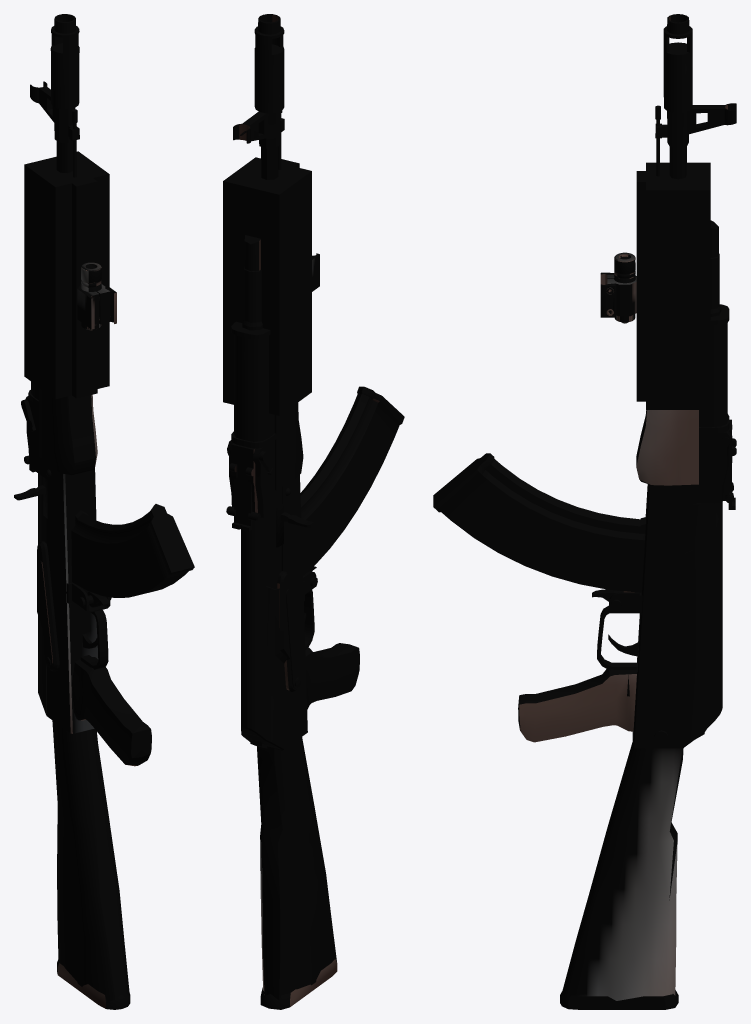
File: AK74__Handguard_AK_Quad__Light_Pistol.fbx
The picture shows the model from 3 angles, left to right: view 1: azimuth 30°, elevation 25°; view 2: azimuth 150°, elevation 25°; view 3: azimuth 270°, elevation 25°; orthographic projection. The views are drawn at different scales.
Visible parts, largest first — view 1: asset_AK74.001; view 2: asset_AK74.001; view 3: asset_AK74.001.
Boxes of the visible parts, x1,y1,x2,y2 form: asset_AK74.001: [14, 14, 194, 1009]; asset_AK74.001: [223, 14, 404, 1009]; asset_AK74.001: [433, 14, 736, 1009].
Bounding box in the file's own units: 0.046 × 0.564 × 0.1574.
